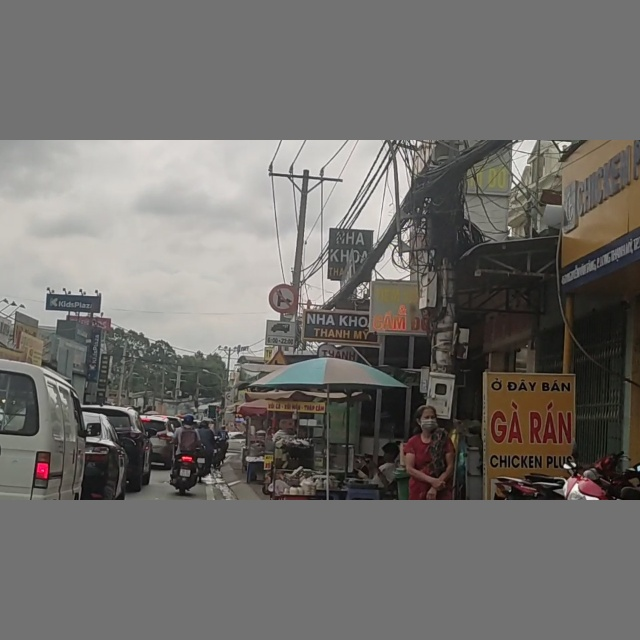P.139: (269, 283, 297, 312)
S.505a*Xe tai: (265, 321, 297, 344)
W.205b: (263, 353, 295, 368)
